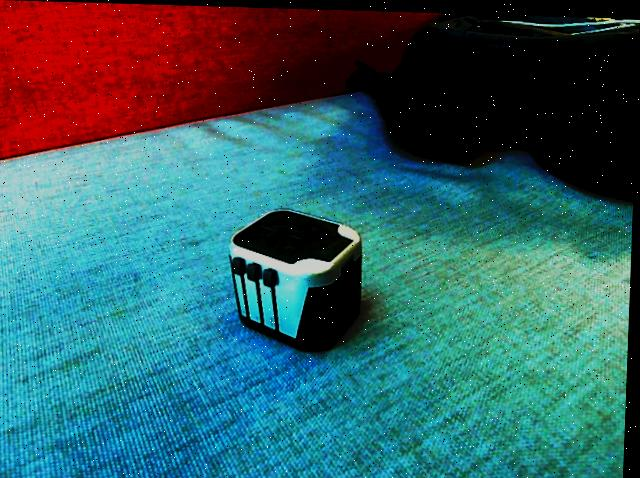adapter: (227, 206, 366, 351)
